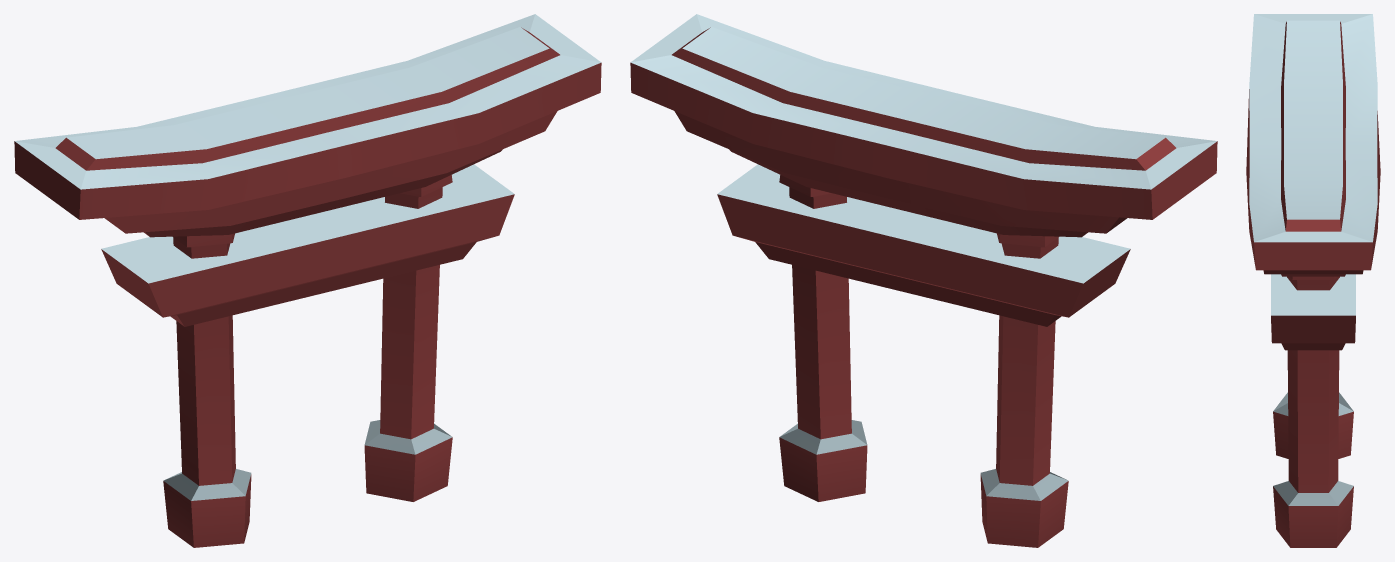
Rendered from SM_Bld_Samurai_Arch_01_Snow.fbx.
3 views of the same model, side by side, from view 1: azimuth 30°, elevation 25°; view 2: azimuth 150°, elevation 25°; view 3: azimuth 270°, elevation 25° (orthographic). The views are drawn at different scales.
Visible parts, largest first — view 1: SM_Bld_Samurai_Arch_01_Snow; view 2: SM_Bld_Samurai_Arch_01_Snow; view 3: SM_Bld_Samurai_Arch_01_Snow.
Part boxes in pixels (left/top/right/bottom): SM_Bld_Samurai_Arch_01_Snow: left=14, top=14, right=601, bottom=547; SM_Bld_Samurai_Arch_01_Snow: left=630, top=14, right=1217, bottom=547; SM_Bld_Samurai_Arch_01_Snow: left=1246, top=14, right=1380, bottom=547.
Size of the model in its own units: 152 by 118 by 37.88.
Materials: 1 (1 with a texture image).
